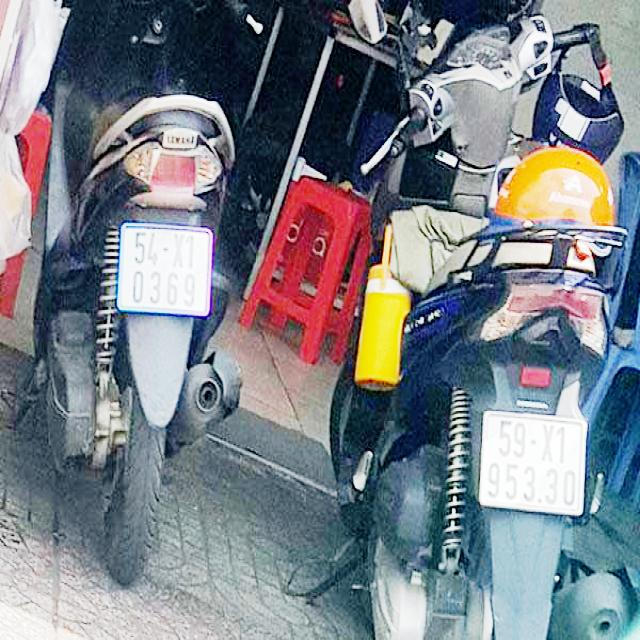license_plate: (481, 415, 581, 510), (119, 230, 210, 314)
